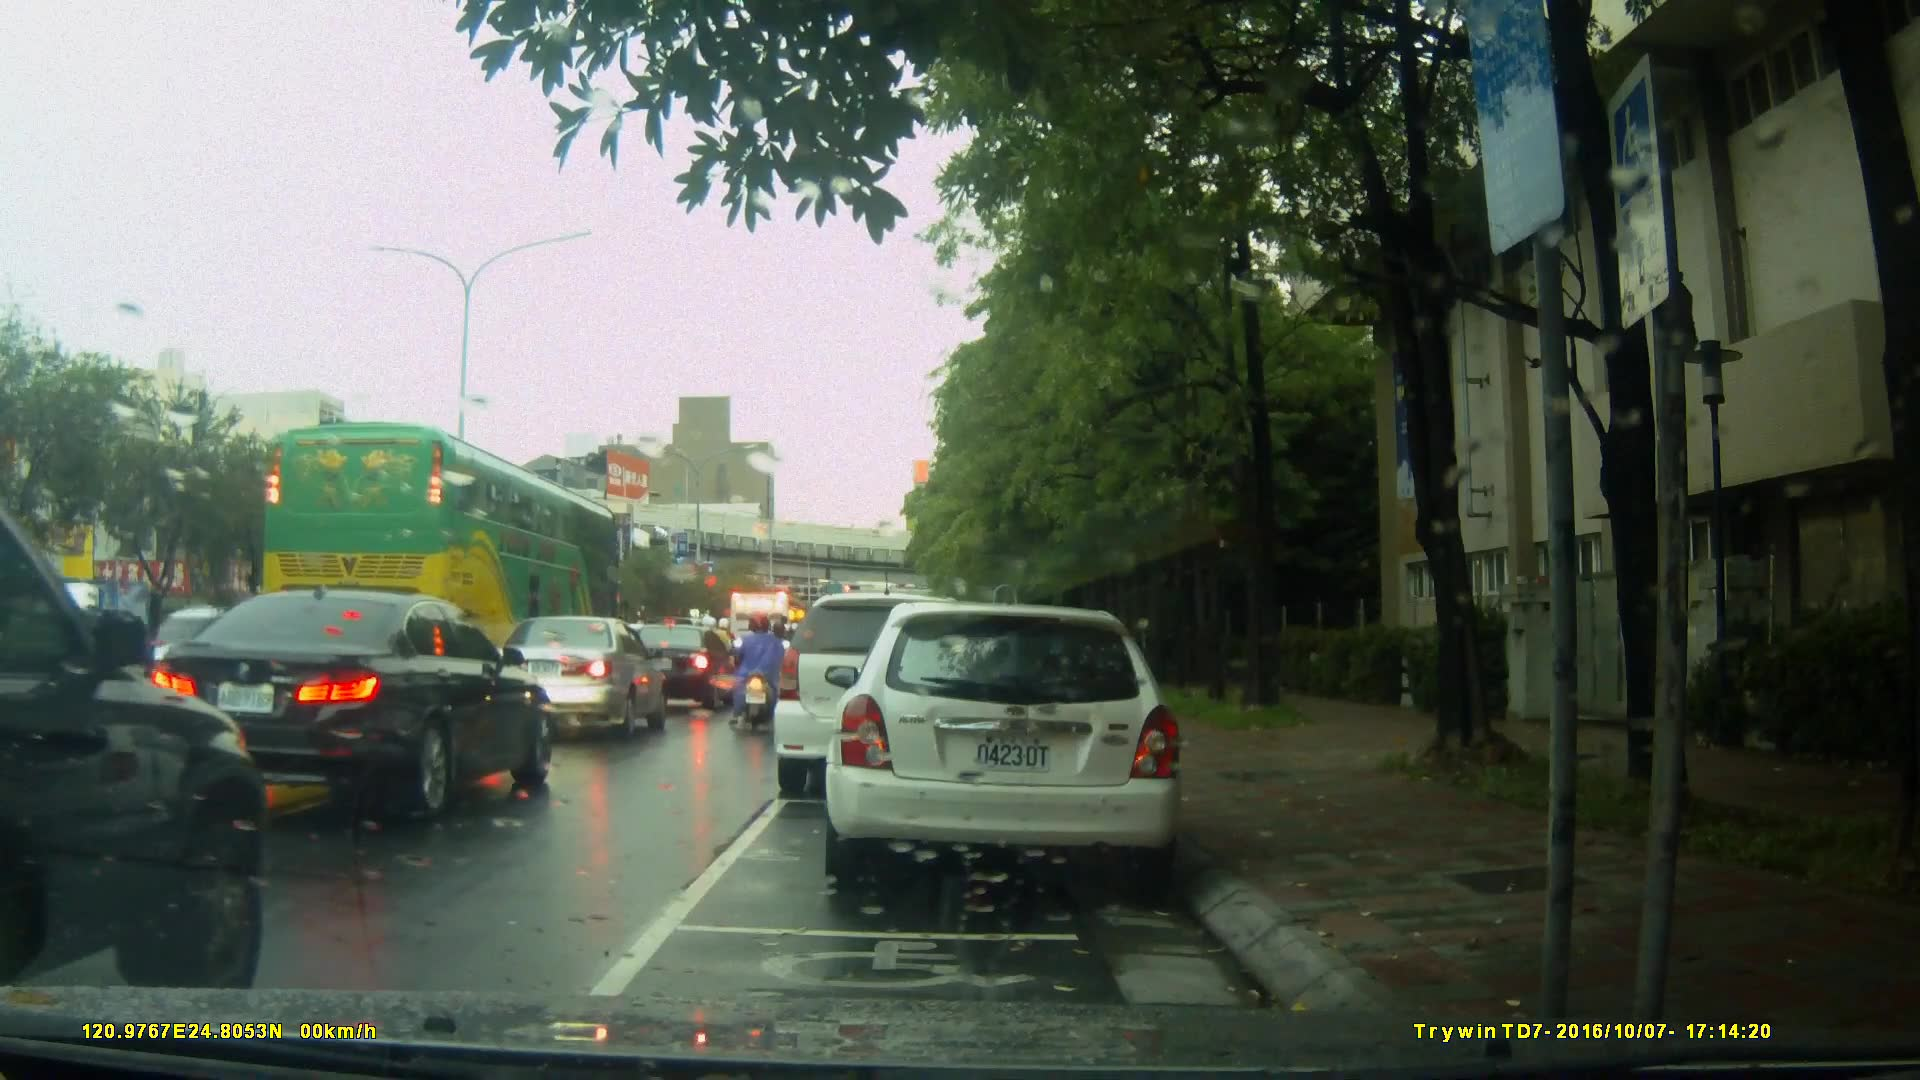rider: (729, 605, 790, 726)
vehicle: (1, 493, 272, 991), (831, 592, 1196, 897), (141, 587, 560, 823), (257, 420, 628, 658), (772, 592, 999, 796), (480, 614, 668, 746), (624, 623, 736, 713), (719, 586, 802, 705)
